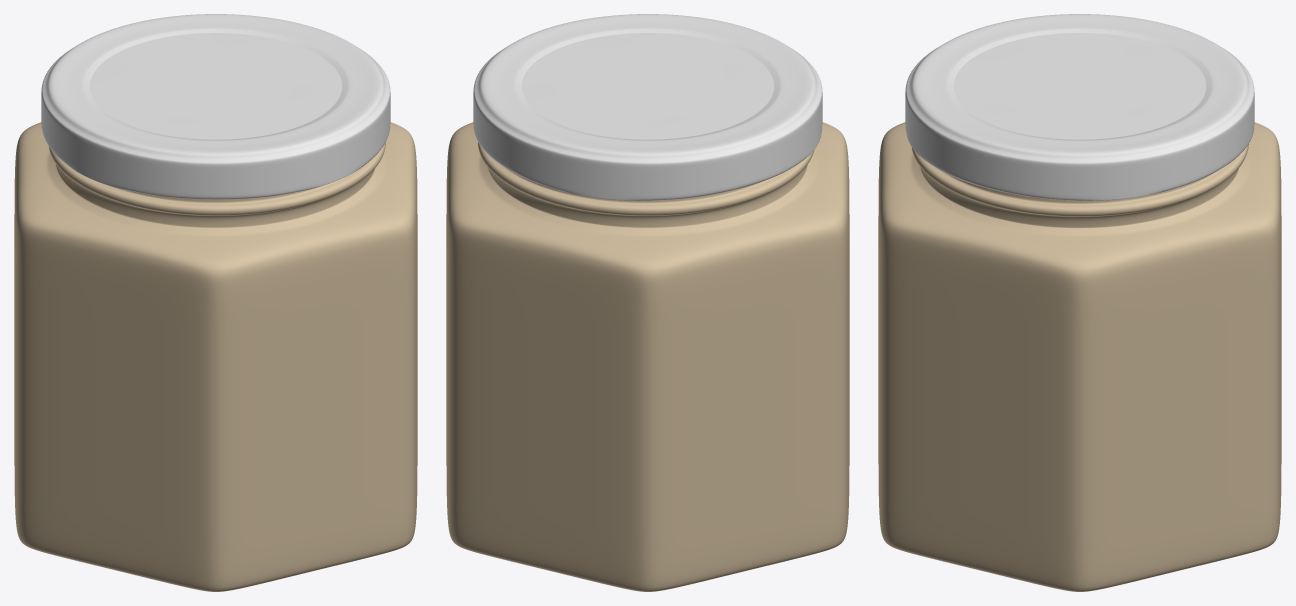
3 views of the same model, side by side, from view 1: azimuth 30°, elevation 25°; view 2: azimuth 150°, elevation 25°; view 3: azimuth 270°, elevation 25° (orthographic).
Parts seen in each view (by area): view 1: jar, top; view 2: jar, top; view 3: jar, top.
Part boxes in pixels (<box>): jar: <box>14,122,417,591</box>; top: <box>41,14,390,199</box>; jar: <box>446,122,849,591</box>; top: <box>473,14,822,200</box>; jar: <box>878,122,1281,591</box>; top: <box>905,14,1254,200</box>.
Bounding box in the file's own units: 3.48 × 3.56 × 3.11.
